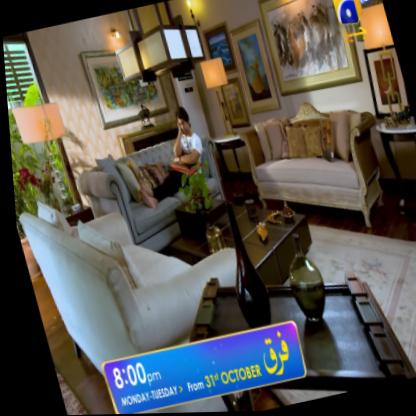Sofa: (10, 164, 271, 416), (231, 91, 400, 252), (68, 134, 234, 260)
Table: (372, 114, 416, 218)
